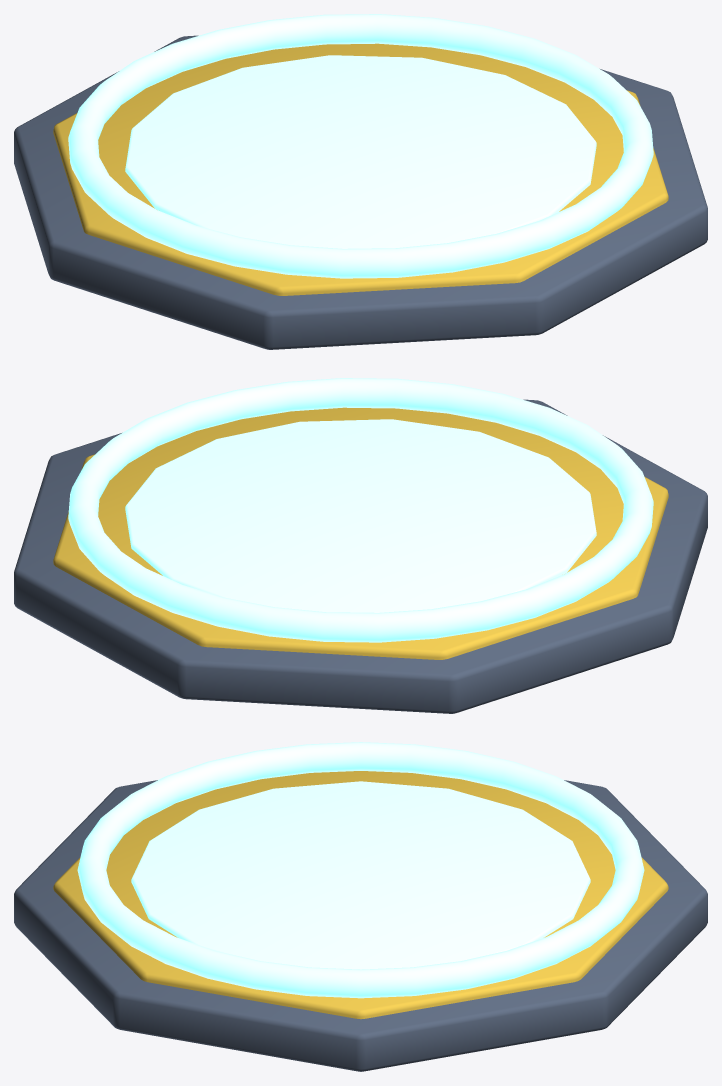
Rendered from prop_jumppad.glb.
The picture shows the model from 3 angles, top to bottom: view 1: azimuth 30°, elevation 25°; view 2: azimuth 150°, elevation 25°; view 3: azimuth 270°, elevation 25°; orthographic projection. The views are drawn at different scales.
Visible parts, largest first — view 1: repulsor_core, outer_base, hover_ring, gold_rim; view 2: repulsor_core, outer_base, hover_ring, gold_rim; view 3: repulsor_core, outer_base, hover_ring, gold_rim.
Part boxes in pixels (x1=…): repulsor_core: x1=125, y1=55, x2=596, y2=248; outer_base: x1=14, y1=35, x2=707, y2=349; hover_ring: x1=68, y1=14, x2=653, y2=278; gold_rim: x1=53, y1=43, x2=668, y2=295; repulsor_core: x1=125, y1=419, x2=596, y2=612; outer_base: x1=14, y1=399, x2=707, y2=713; hover_ring: x1=68, y1=378, x2=653, y2=642; gold_rim: x1=53, y1=407, x2=668, y2=659; repulsor_core: x1=131, y1=781, x2=590, y2=969; outer_base: x1=14, y1=780, x2=707, y2=1071; hover_ring: x1=77, y1=742, x2=644, y2=998; gold_rim: x1=53, y1=771, x2=668, y2=1019.
Size of the model in its own units: 5.29 by 0.59 by 5.29.
